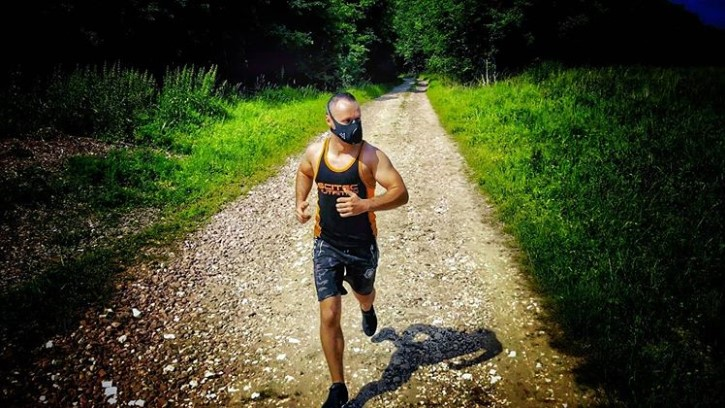face_with_mask: (325, 90, 363, 147)
